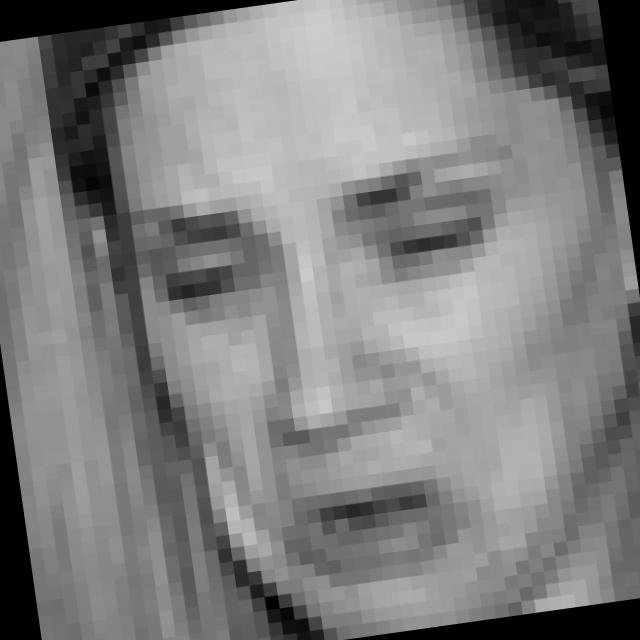disgust: (124, 131, 567, 612)
